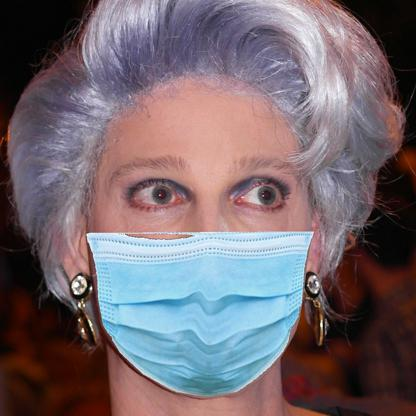mask: (84, 231, 311, 396)
